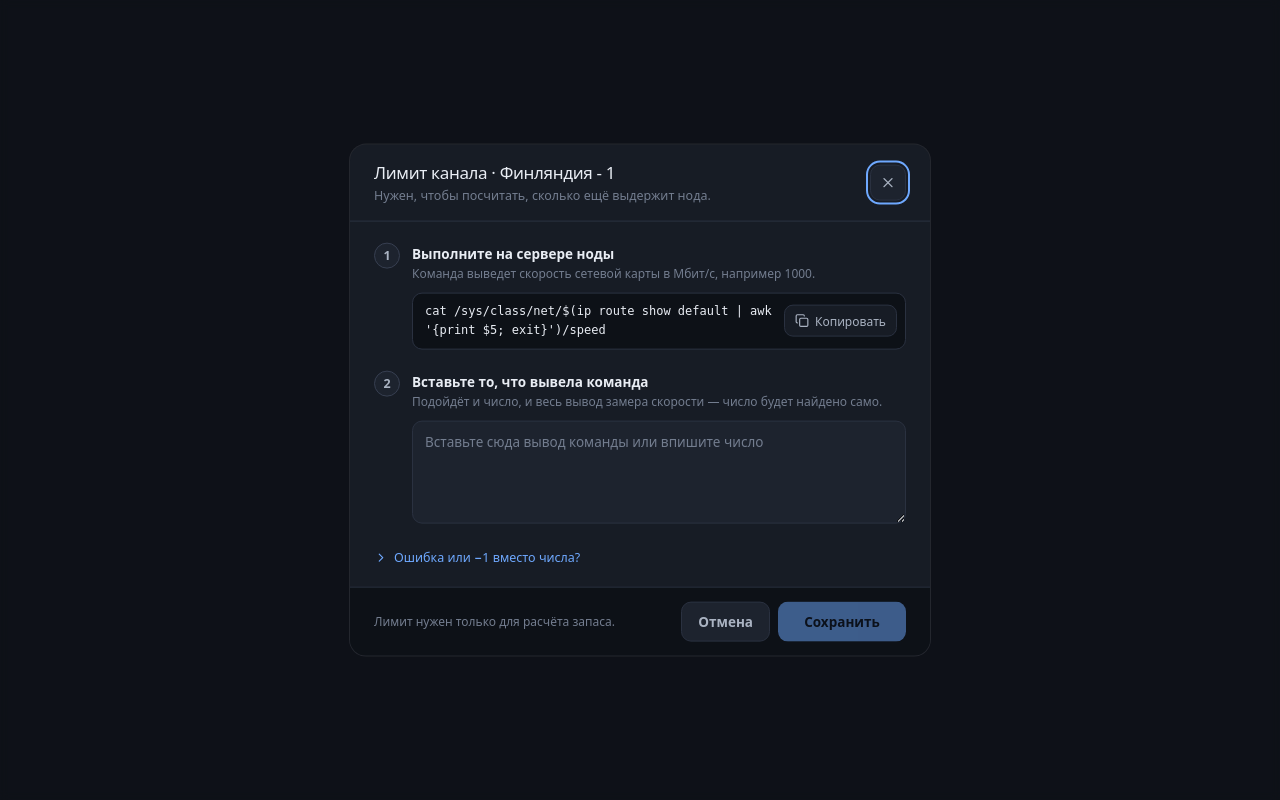
Test: окно «Лимит канала» › непонятное и невозможное не сохраняются: объясняют, что вписать
Type "очень быстро" into the text box named "Вывод команды или скорость канала". click: (659, 472)
box: 412,420 -> 906,524
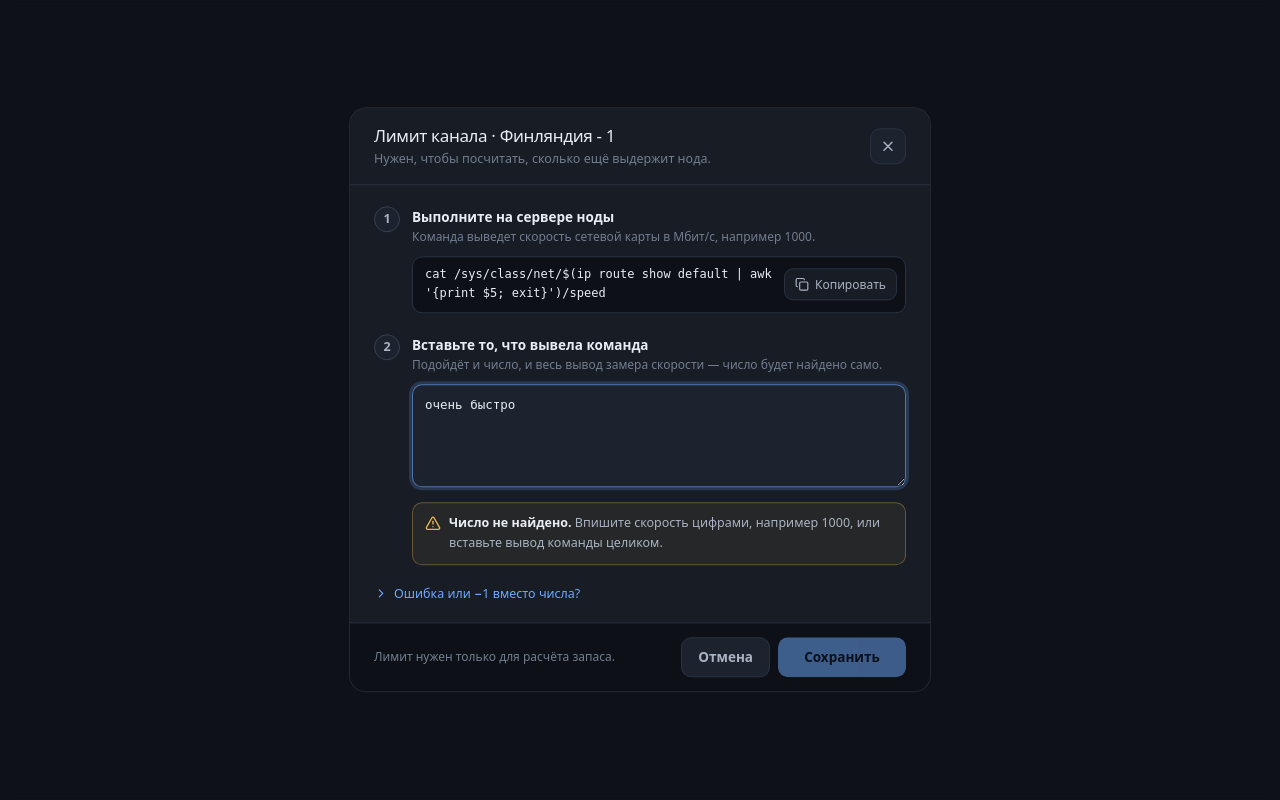
Expected: the button "Сохранить" is disabled, 778,638 -> 906,678
Expected: the text "Число не найдено." is shown, 449,514 -> 572,531
Clear the text box named "Вывод команды или скорость канала". click: (659, 436)
box: 412,384 -> 906,487
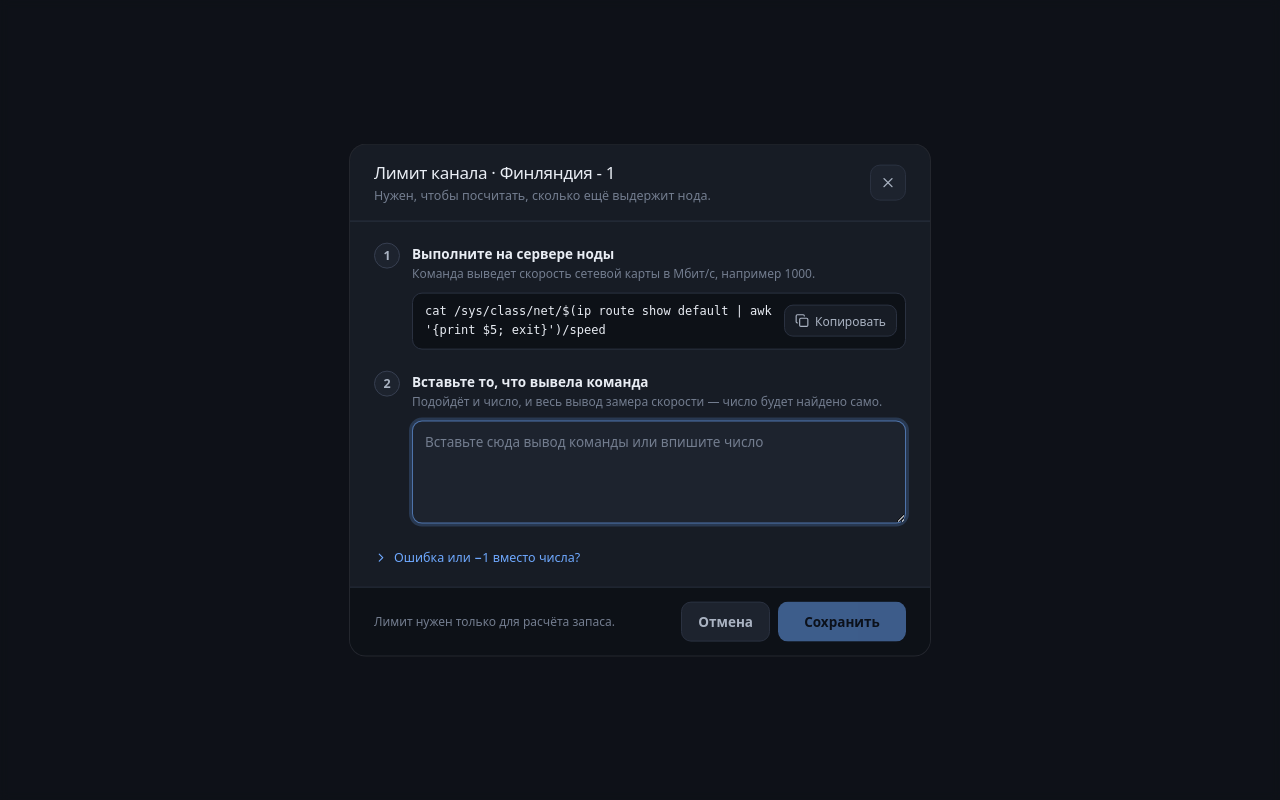
Type "0" into the text box named "Вывод команды или скорость канала". click: (659, 472)
box: 412,420 -> 906,524
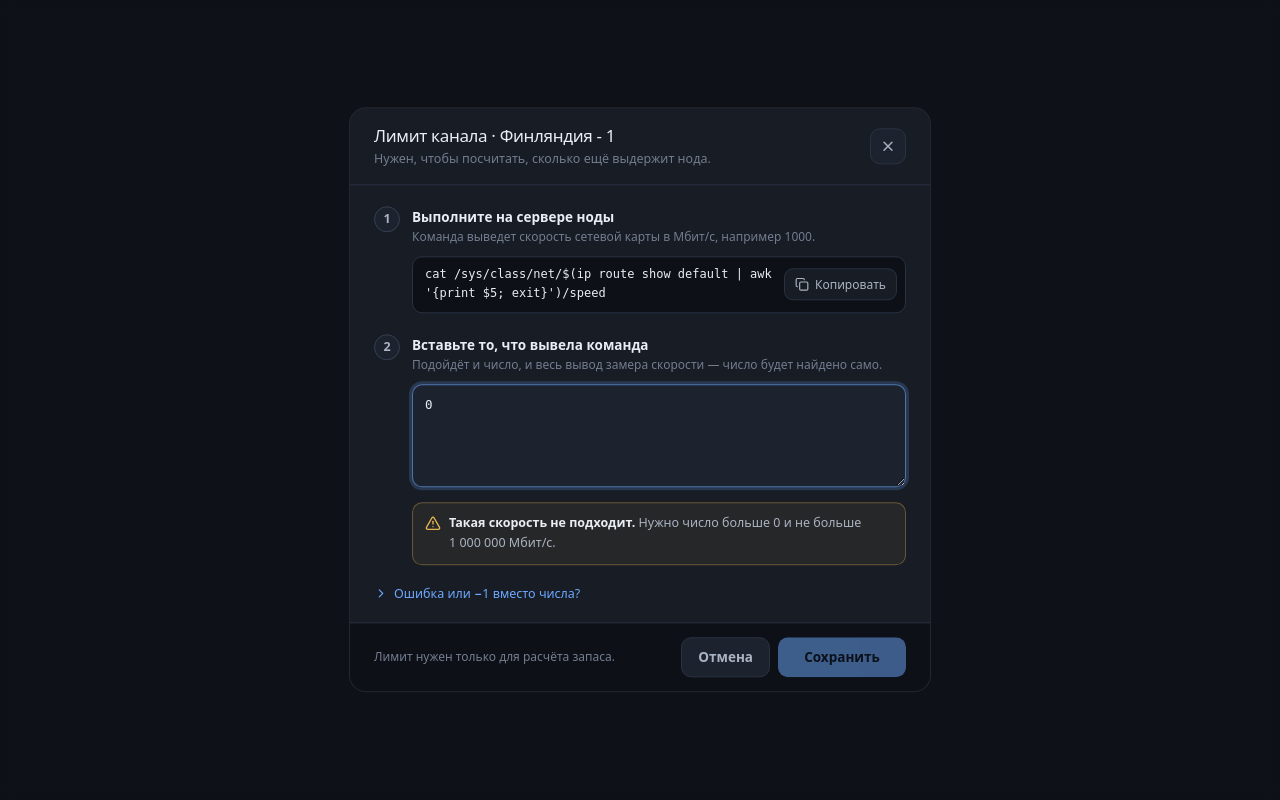
Expected: the button "Сохранить" is disabled, 778,638 -> 906,678
Expected: the text "Такая скорость не подходит." is shown, 449,514 -> 635,531
